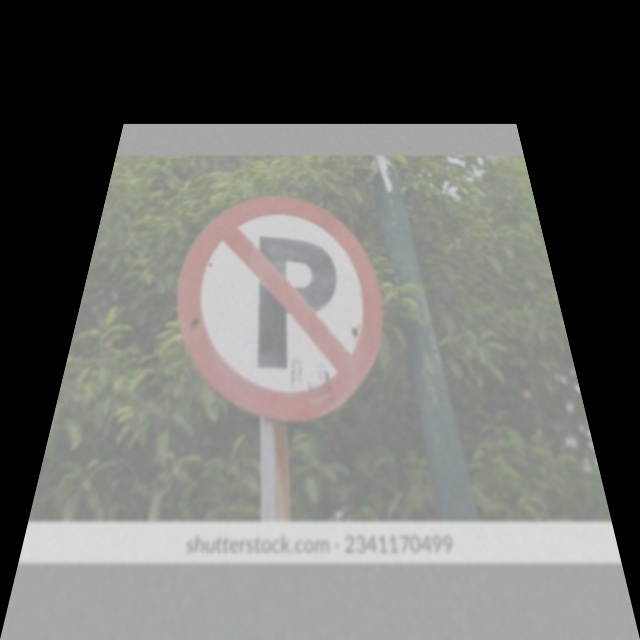No_Parking: (162, 193, 386, 418)
